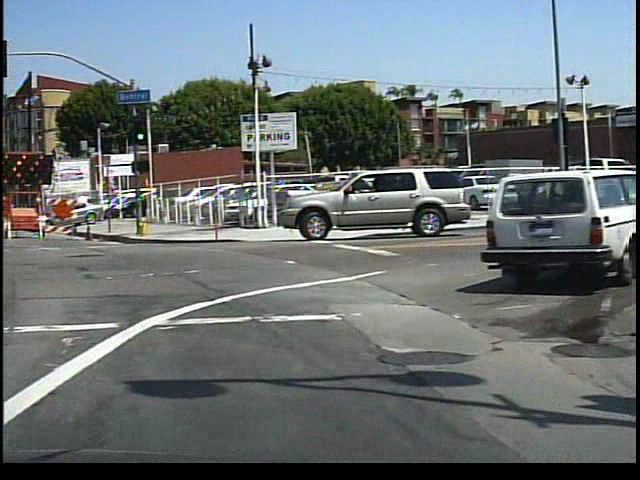person: (569, 162, 589, 205)
